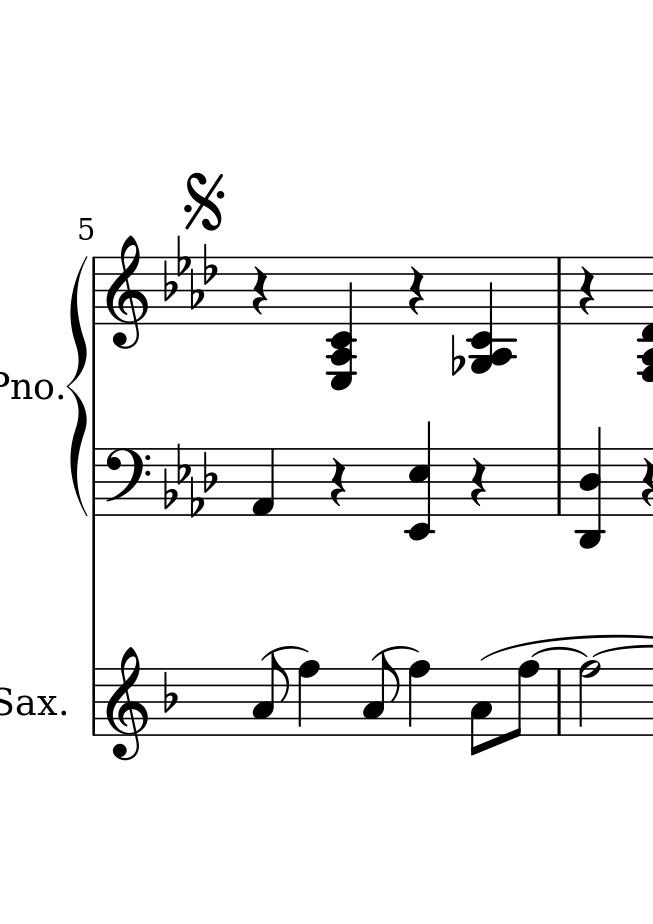2_8: (576, 659, 604, 743)
4_-2_5: (403, 423, 438, 544)
4_-3_4: (575, 426, 607, 550)
4_1: (250, 449, 278, 517)
4_8: (298, 659, 323, 738), (408, 658, 431, 738)
4_th: (470, 254, 519, 377), (327, 255, 357, 392)
8_3: (250, 652, 290, 738), (362, 654, 399, 738), (468, 666, 493, 758)
8_8: (509, 660, 542, 743)
Brace: (65, 255, 91, 517)
Fclef: (103, 444, 152, 517)
Flat: (449, 331, 465, 379), (161, 669, 178, 713)
Gclef: (105, 235, 153, 351), (105, 646, 147, 763)
Rests4: (577, 264, 596, 320), (330, 457, 350, 508), (405, 265, 425, 315), (470, 455, 488, 508), (251, 265, 270, 315)
Segno: (180, 172, 228, 231)
Single_barline: (549, 256, 572, 325), (548, 669, 569, 736), (549, 448, 570, 515), (88, 449, 108, 517), (86, 669, 106, 735), (87, 256, 106, 325)
Slur: (257, 645, 309, 660), (529, 648, 588, 659), (374, 646, 418, 660)
